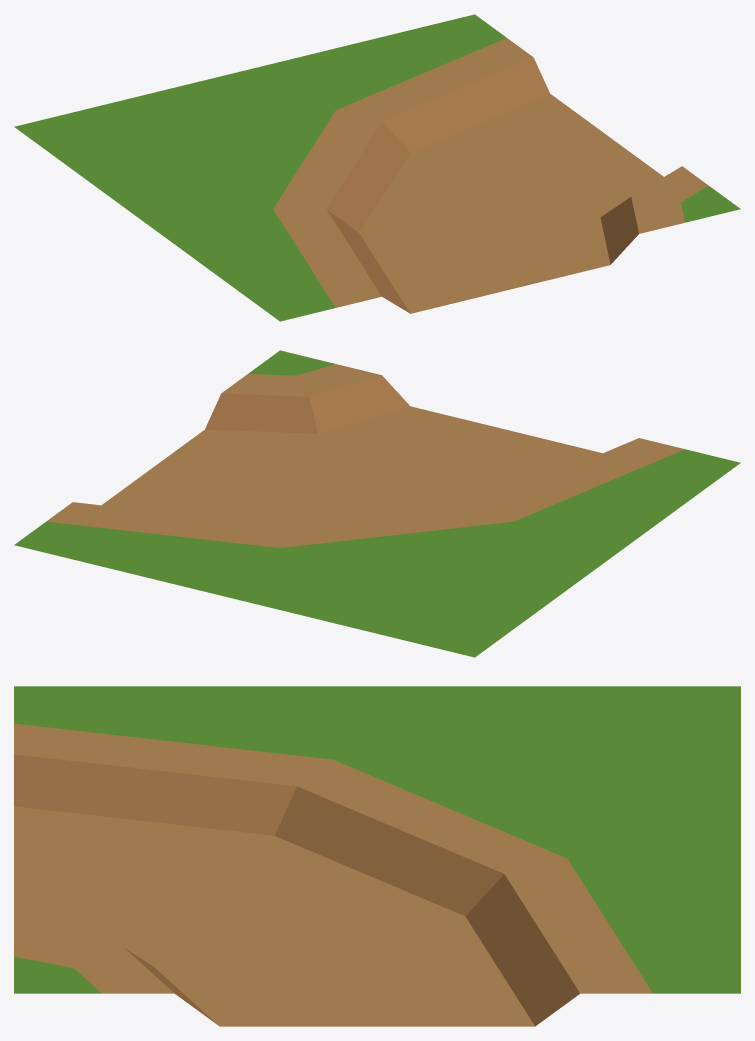
The model's file is ground_pathBend.glb.
3 renders of one model, top to bottom at view 1: azimuth 30°, elevation 25°; view 2: azimuth 150°, elevation 25°; view 3: azimuth 270°, elevation 25°, orthographic. The views are drawn at different scales.
Visible parts, largest first — view 1: ground_pathBend; view 2: ground_pathBend; view 3: ground_pathBend.
Part boxes in pixels (x1,y1,x2,y2): ground_pathBend: (14, 14, 740, 321); ground_pathBend: (14, 350, 740, 657); ground_pathBend: (14, 686, 740, 1026).
Size of the model in its own units: 1 by 0.05 by 1.
